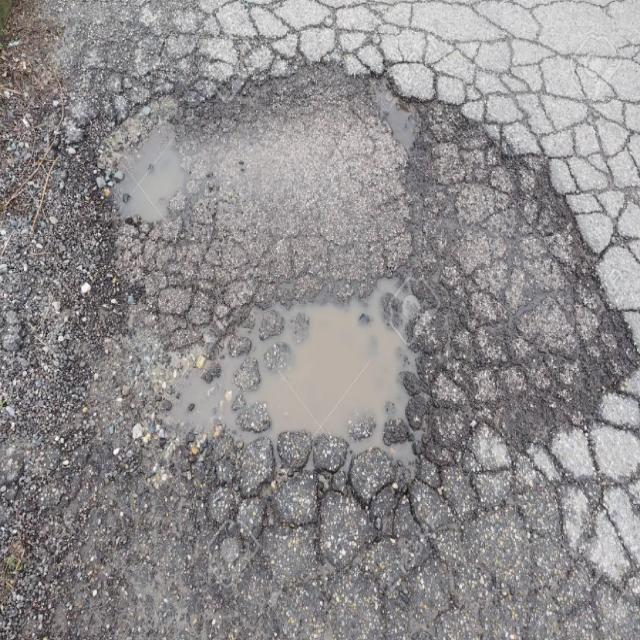Drain Hole: (449, 0, 640, 258)
